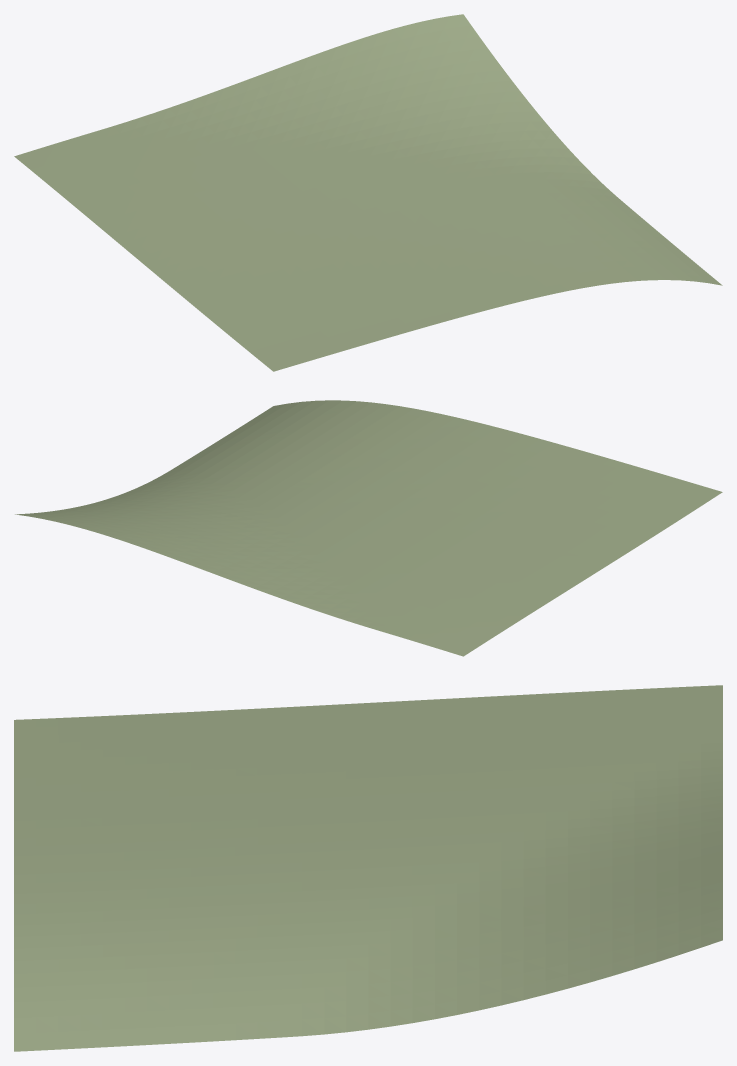
Rendered from expanse-13-9.glb.
3 renders of one model, top to bottom at view 1: azimuth 30°, elevation 25°; view 2: azimuth 150°, elevation 25°; view 3: azimuth 270°, elevation 25°, orthographic. The views are drawn at different scales.
Visible parts, largest first — view 1: expanse-13-9; view 2: expanse-13-9; view 3: expanse-13-9.
Part boxes in pixels (x1,y1,x2,y2): expanse-13-9: (14,14,722,371); expanse-13-9: (15,400,722,656); expanse-13-9: (14,685,722,1051).
Size of the model in its own units: 256 by 45.96 by 256.
